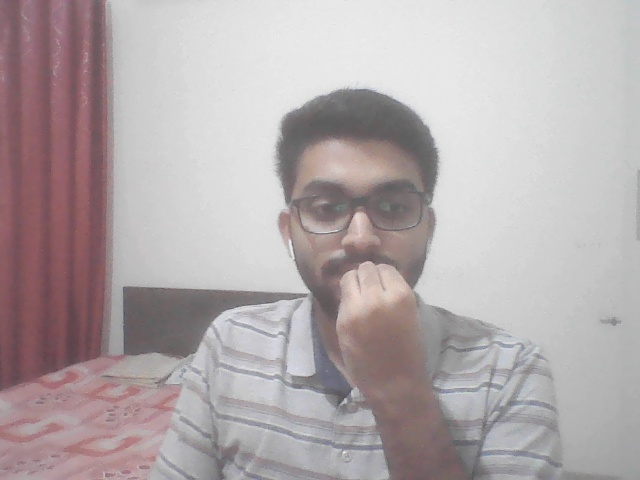eat: (316, 243, 446, 434)
